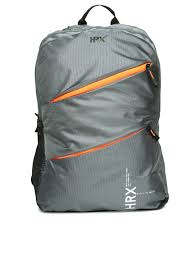backpack: (30, 4, 169, 212)
